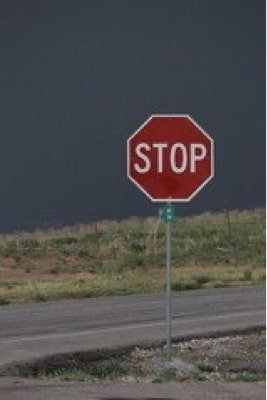StopSign: (125, 112, 216, 204)
